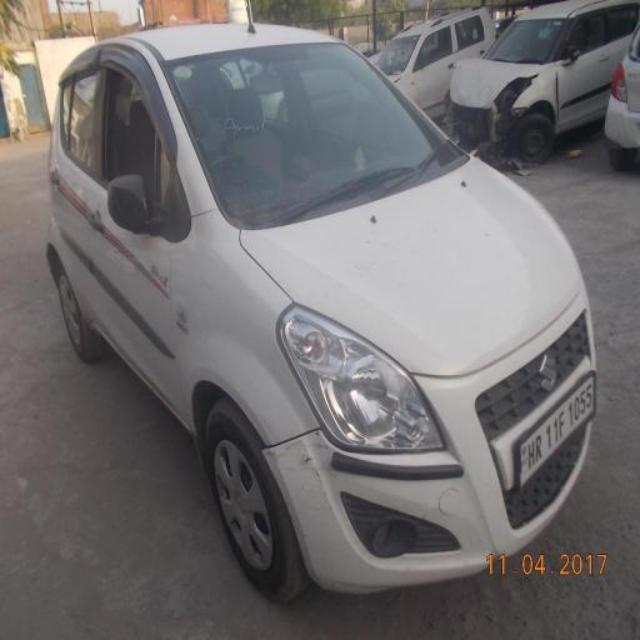rub: (267, 438, 339, 519)
scratch: (299, 443, 319, 472)
